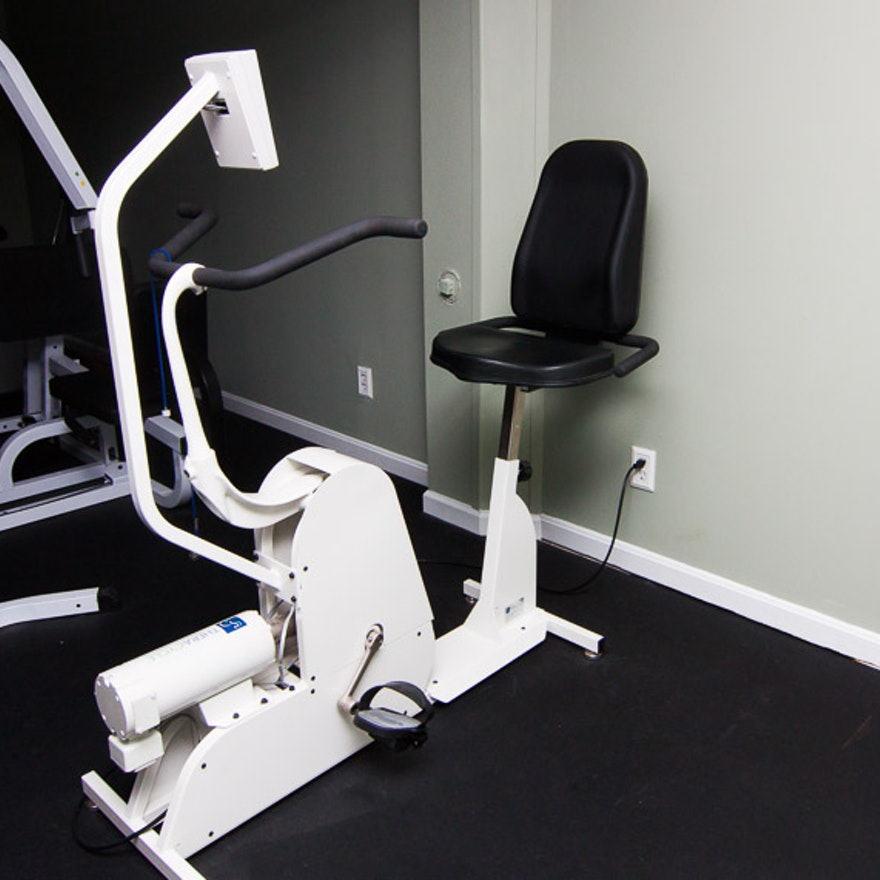gym_bike: (29, 51, 644, 879)
